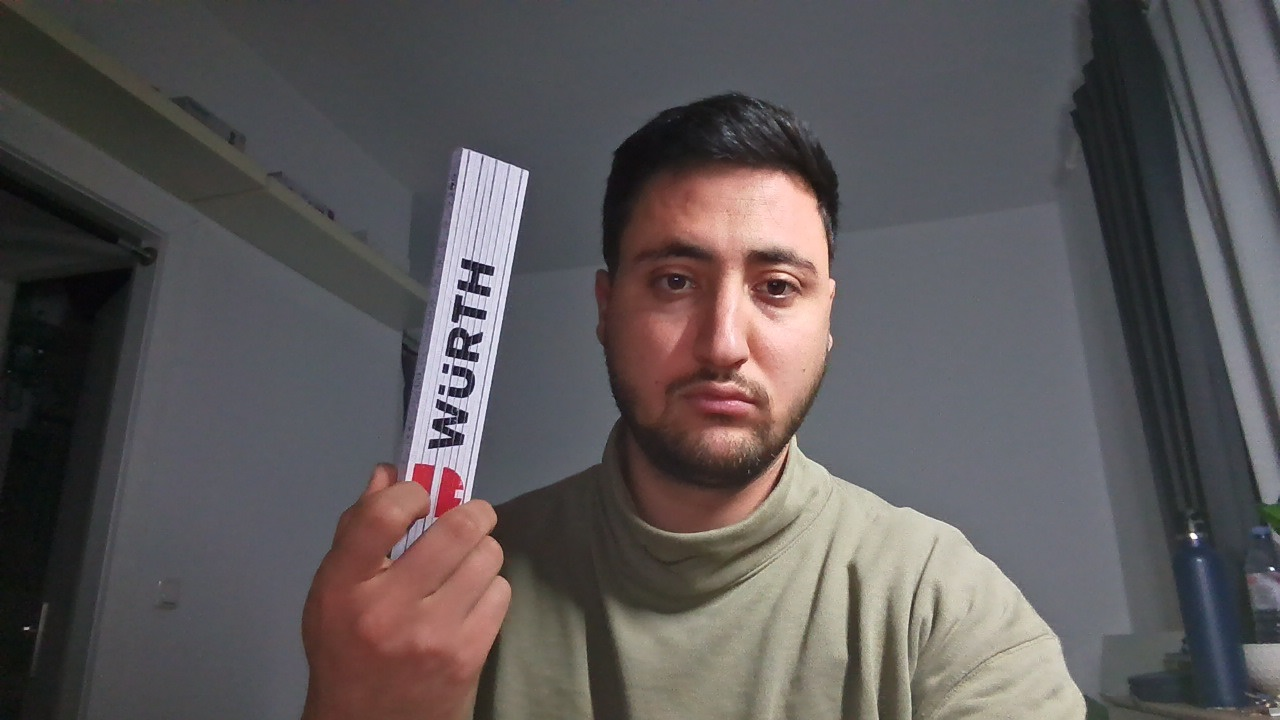Wasserflasche: (1153, 505, 1257, 711)
Zollstock: (410, 130, 544, 556)
me: (581, 72, 851, 513)
